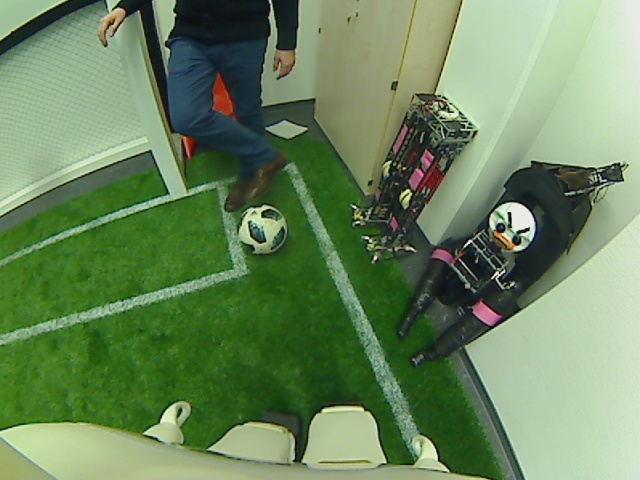ball: (238, 204, 288, 255)
